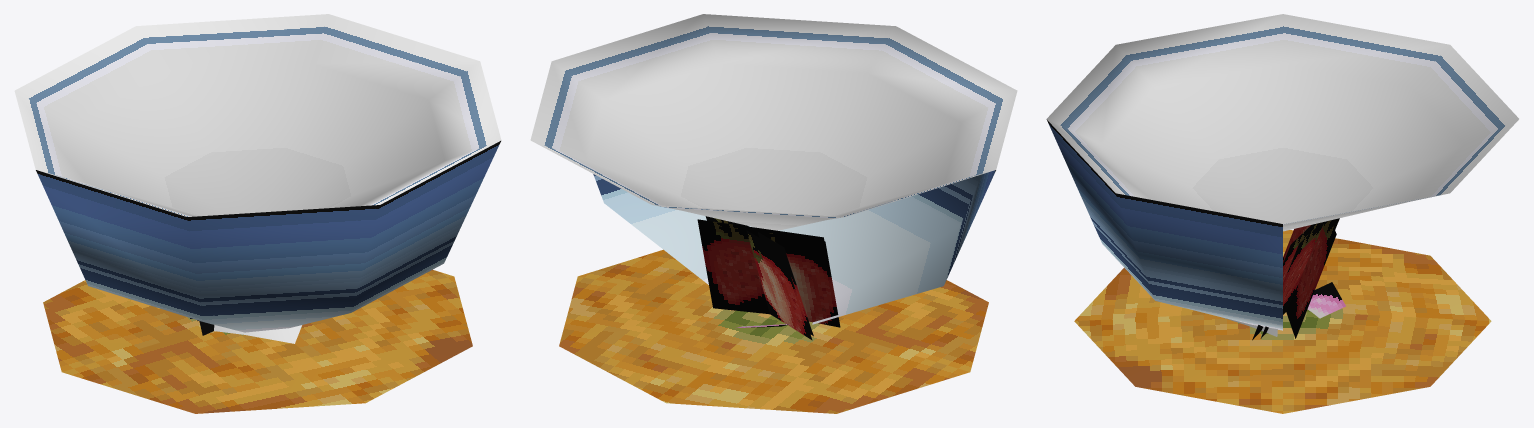
The picture shows the model from 3 angles, left to right: view 1: azimuth 30°, elevation 25°; view 2: azimuth 150°, elevation 25°; view 3: azimuth 270°, elevation 25°; orthographic projection. The views are drawn at different scales.
Parts seen in each view (by area): view 1: 5517u_udon01_hs; view 2: 5517u_udon01_hs; view 3: 5517u_udon01_hs.
Boxes of the visible parts, x1,y1,x2,y2 form: 5517u_udon01_hs: (14, 14, 501, 413); 5517u_udon01_hs: (530, 14, 1017, 413); 5517u_udon01_hs: (1046, 14, 1518, 413).
Size of the model in its own units: 0.7798 by 0.416 by 0.7419.
Materials: 5 (5 with a texture image).
